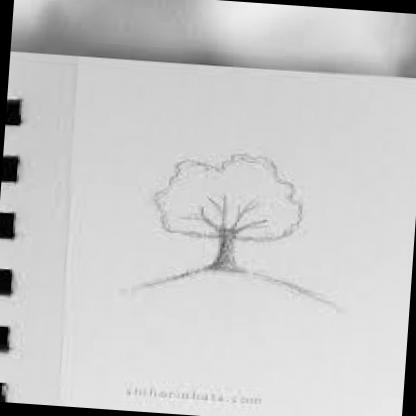branch_sharp: (178, 190, 272, 235)
crown_cloud: (152, 148, 307, 244)
root_none: (202, 263, 254, 288)
trunk_bark: (214, 238, 240, 266)
